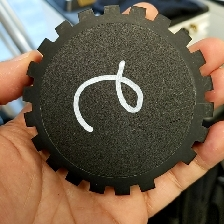gear: (20, 3, 216, 197)
missing: (139, 146, 197, 193)
